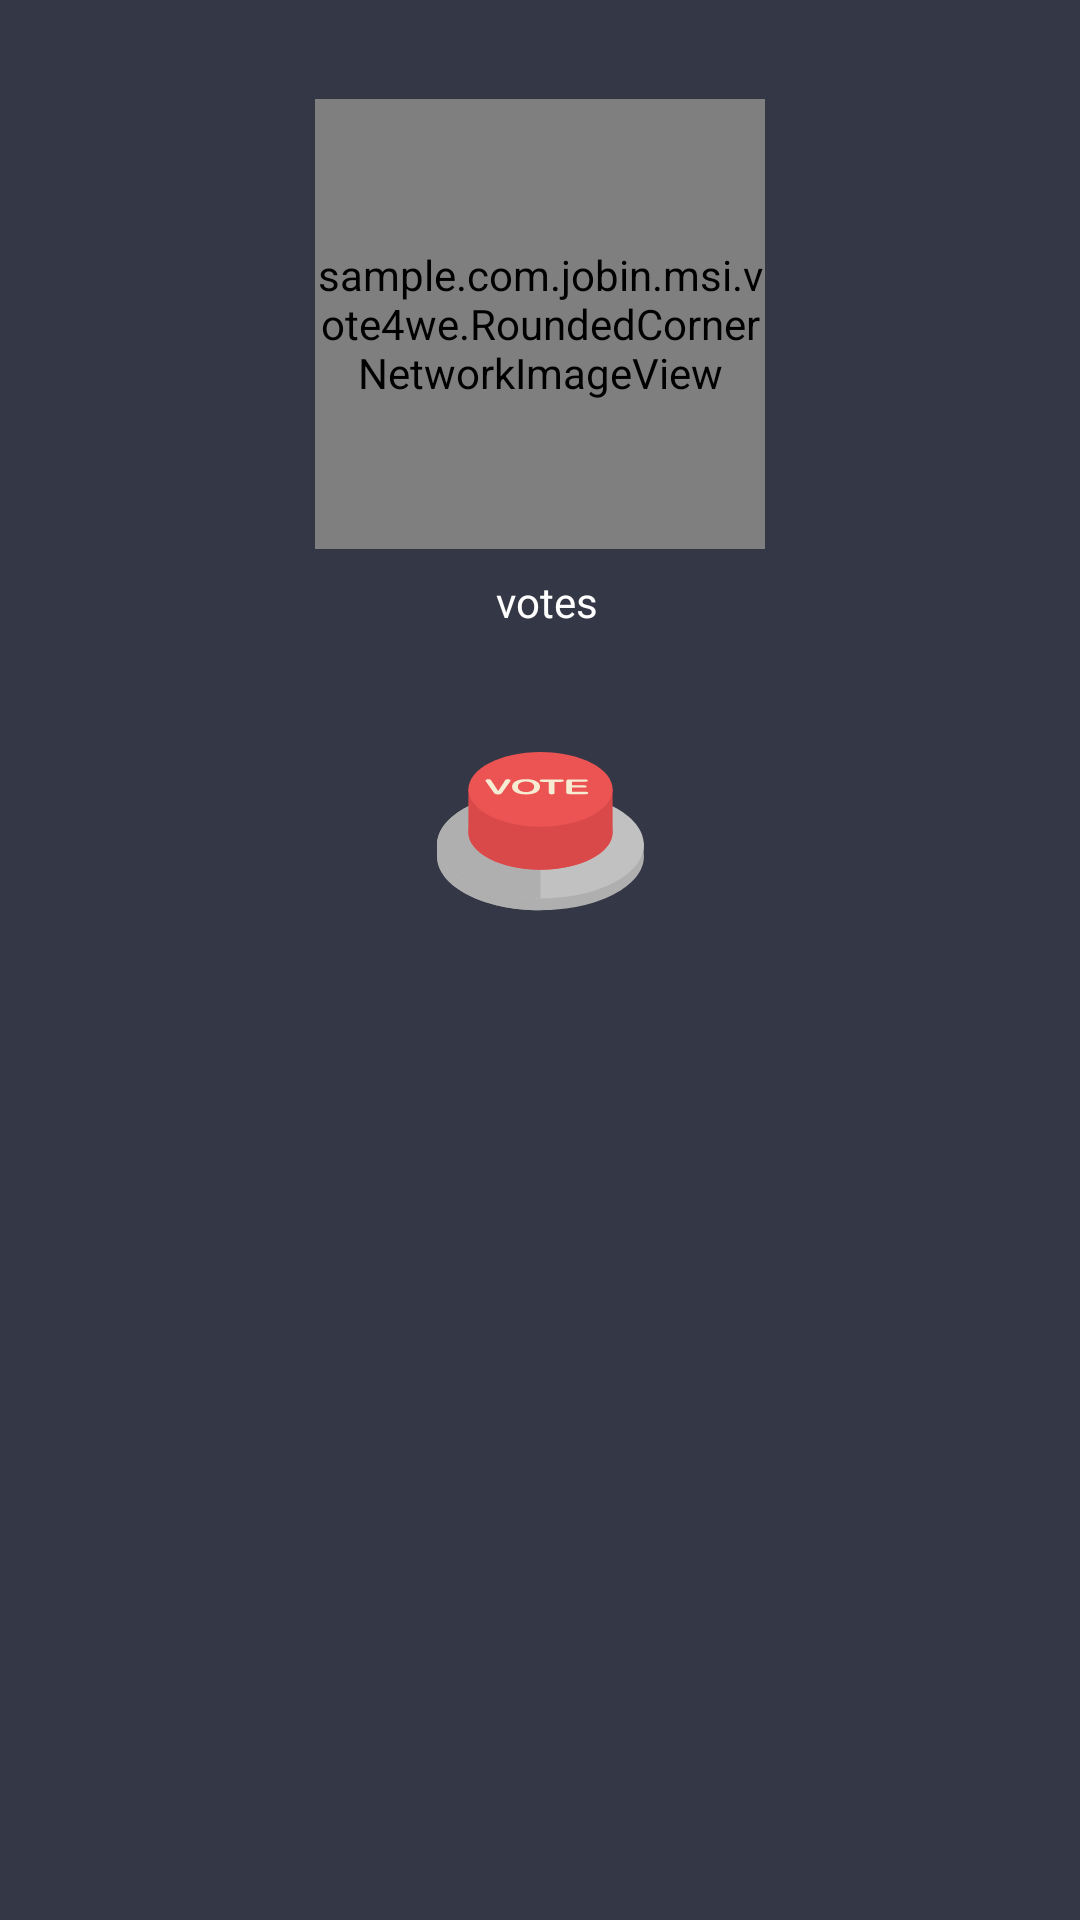

Where icons sit on this 1080 x 1920 app screen, as (x1, y1, x2, y2):
pushbutton anim: (437, 752, 644, 911)
